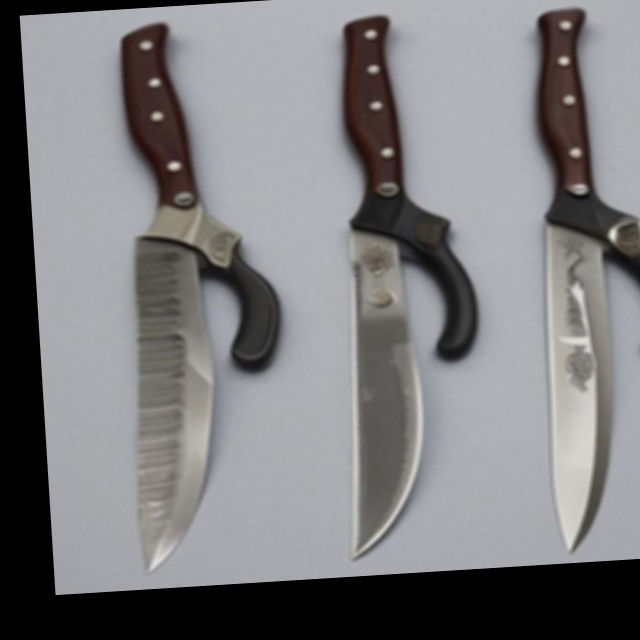Sharp-Object: (103, 12, 300, 579), (316, 5, 498, 565), (517, 0, 640, 559)
